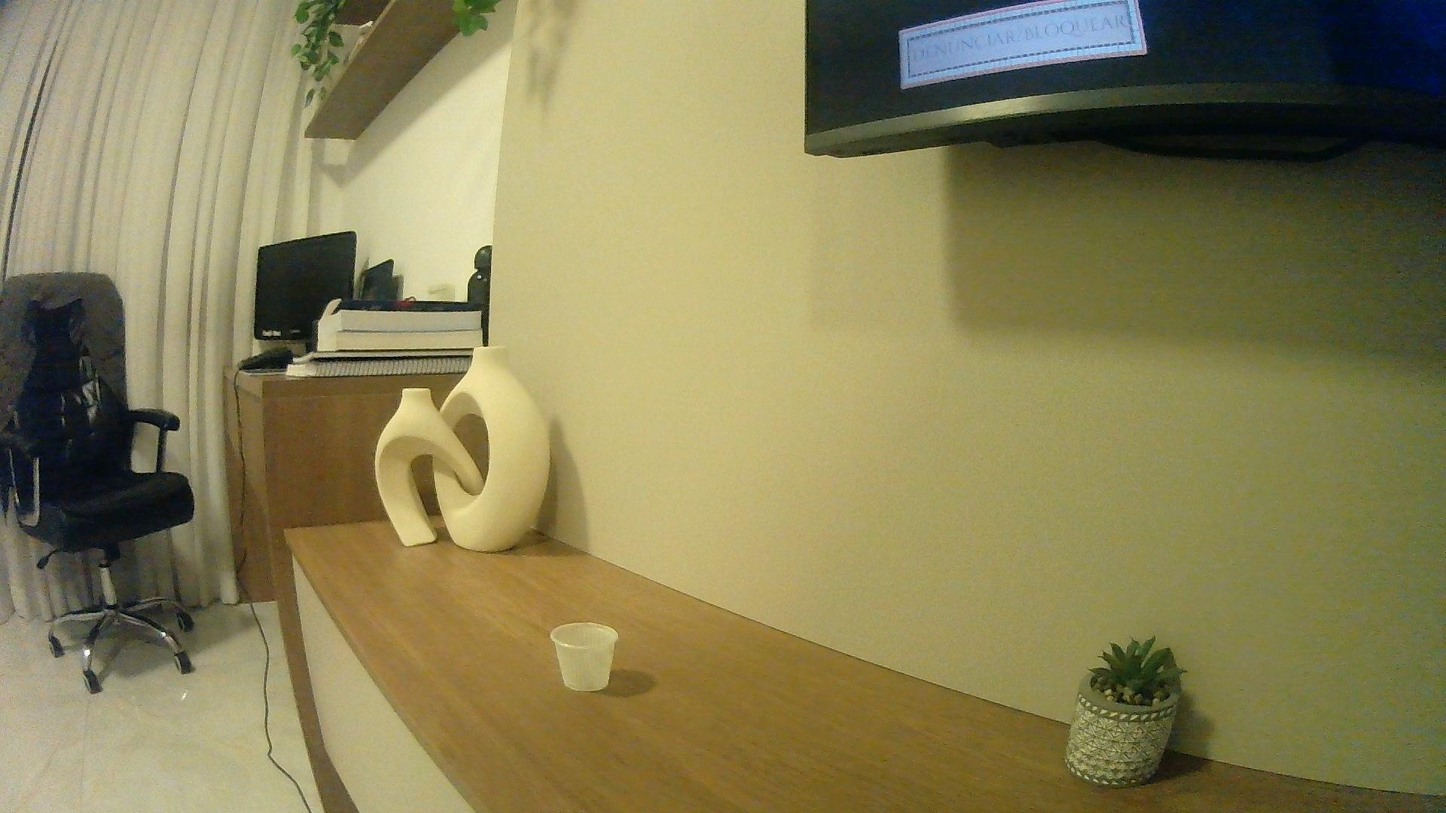planta: (553, 622, 621, 693)
